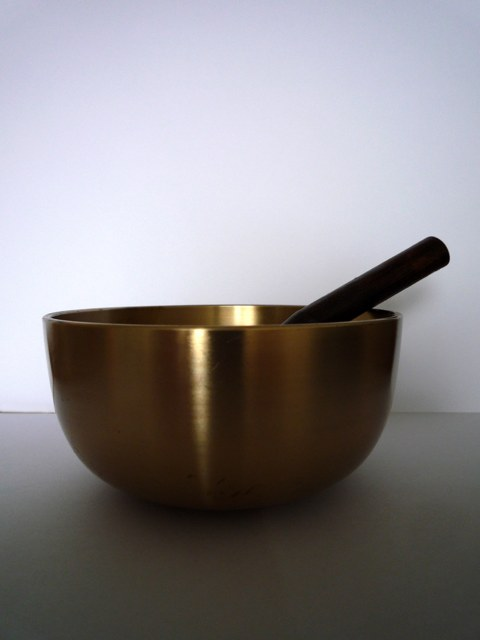bowl: (42, 304, 402, 509)
